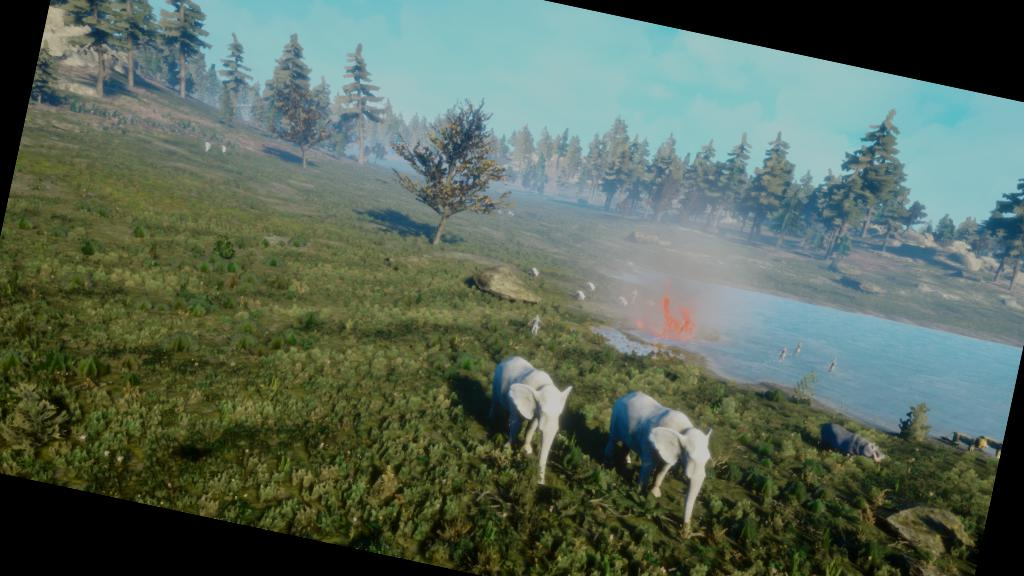Fire: (628, 278, 714, 351)
elephant: (582, 380, 730, 546), (464, 346, 584, 502)
hippopotamus: (808, 414, 899, 475)
human: (513, 303, 551, 343), (818, 354, 842, 382), (773, 340, 792, 368), (789, 336, 811, 360)
lion: (936, 421, 1004, 478)
pig: (520, 260, 554, 285), (558, 282, 588, 310), (608, 288, 632, 315)
smoke: (568, 180, 758, 360)
